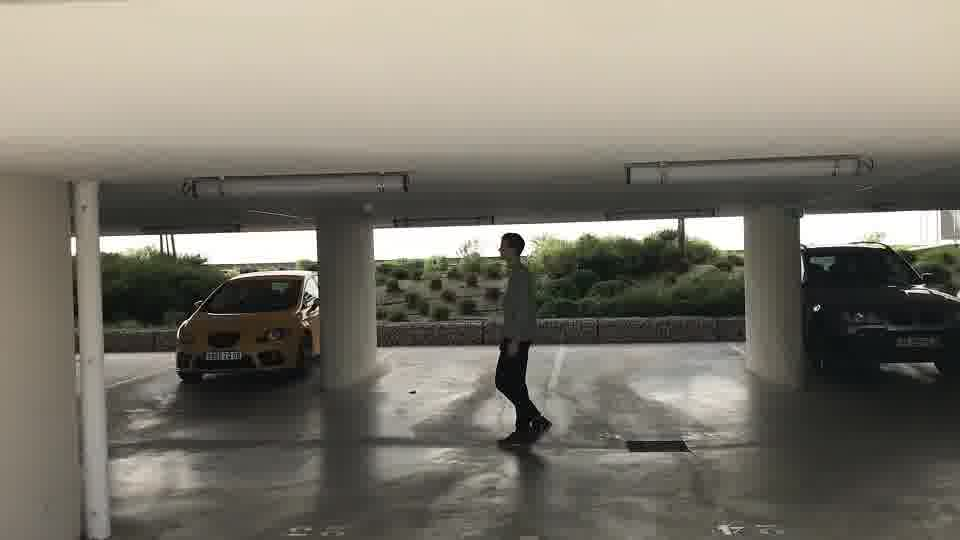jugador: (458, 231, 564, 458)
